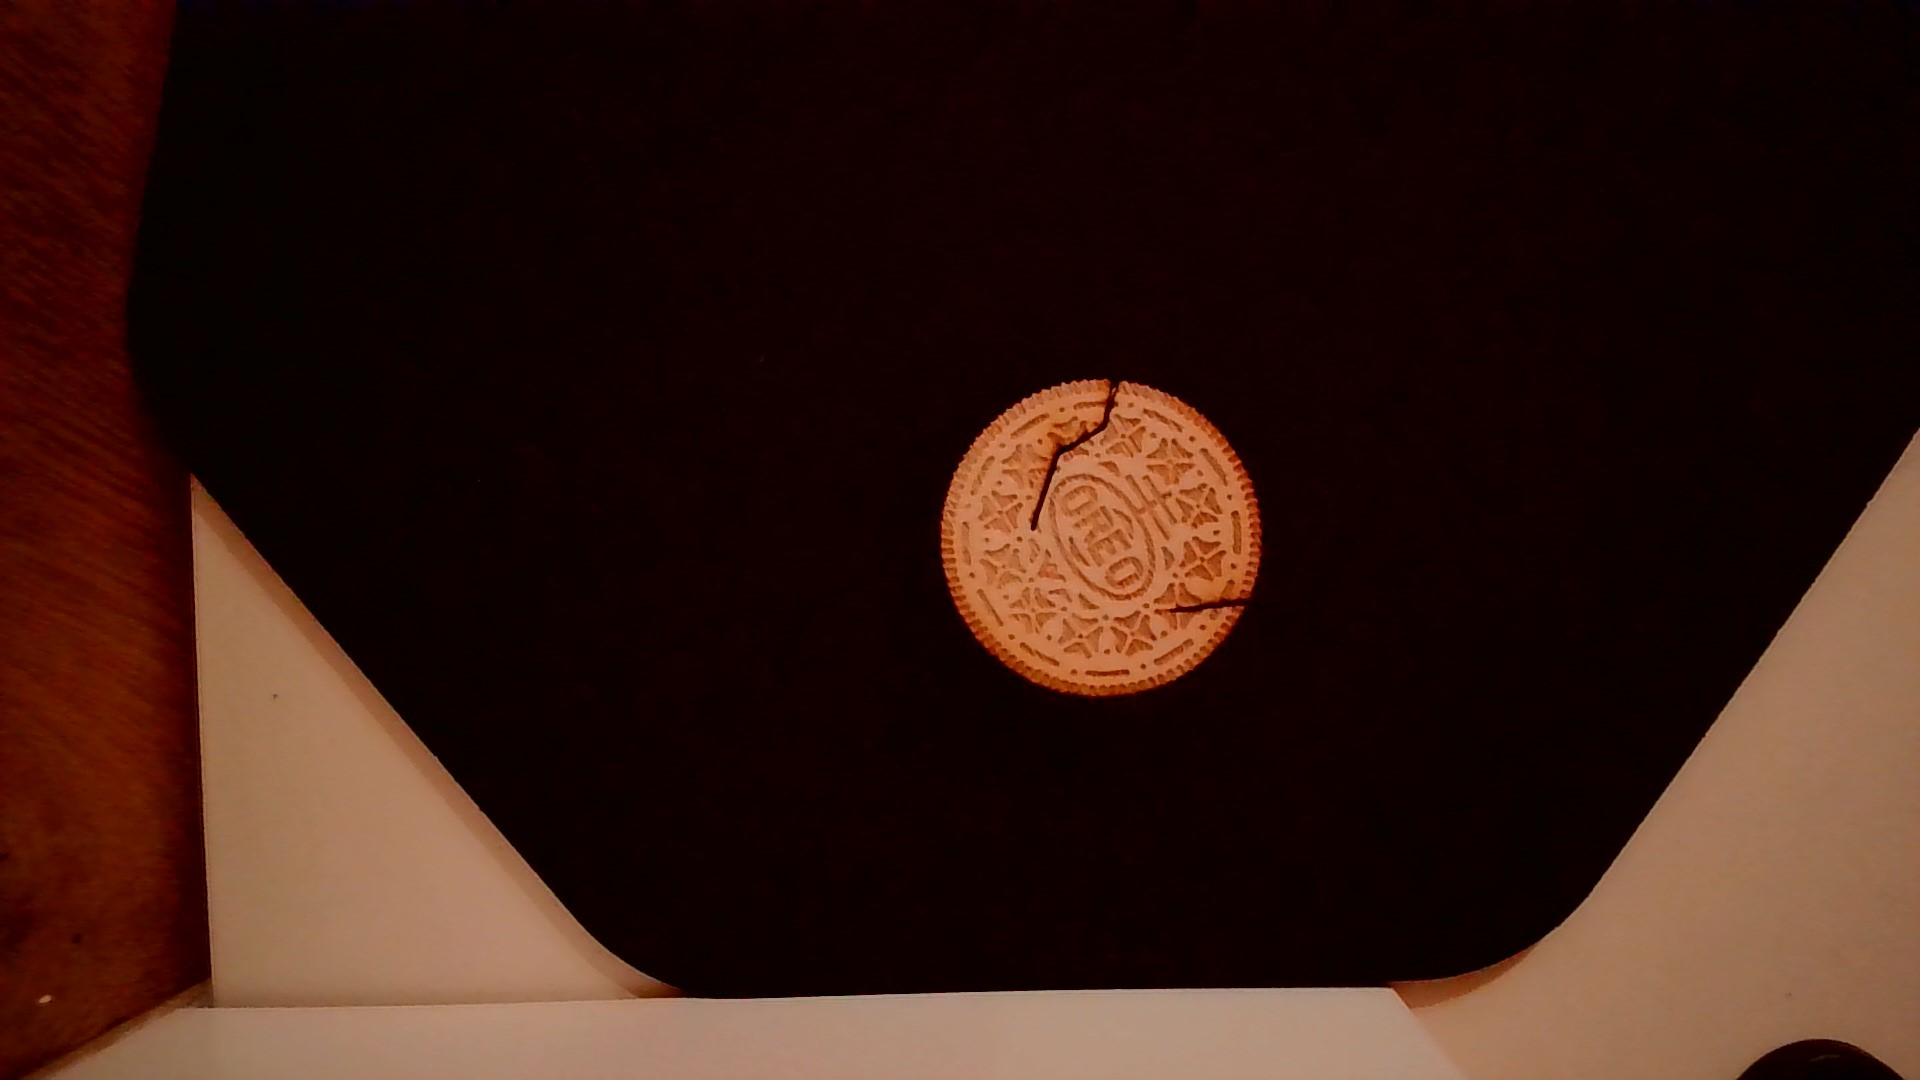Fissure: (1025, 372, 1134, 527), (1154, 593, 1255, 620)
Oréo: (931, 372, 1267, 704)
